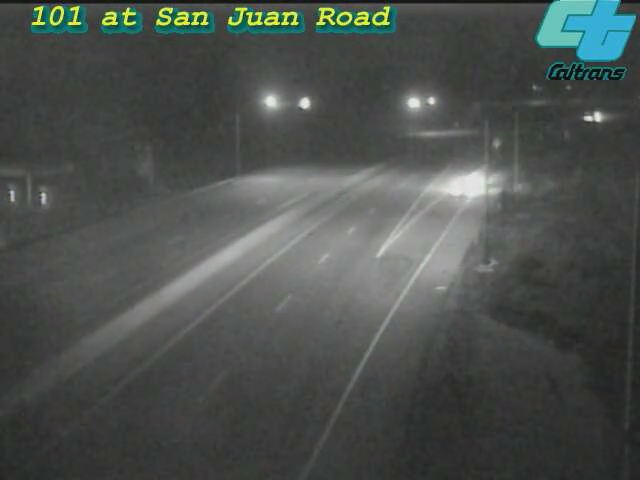vehicle: (427, 144, 507, 224), (571, 93, 621, 143)
